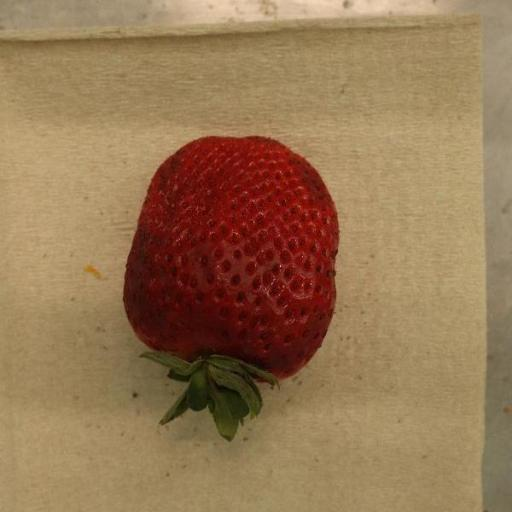Strawberry: (123, 136, 340, 443)
